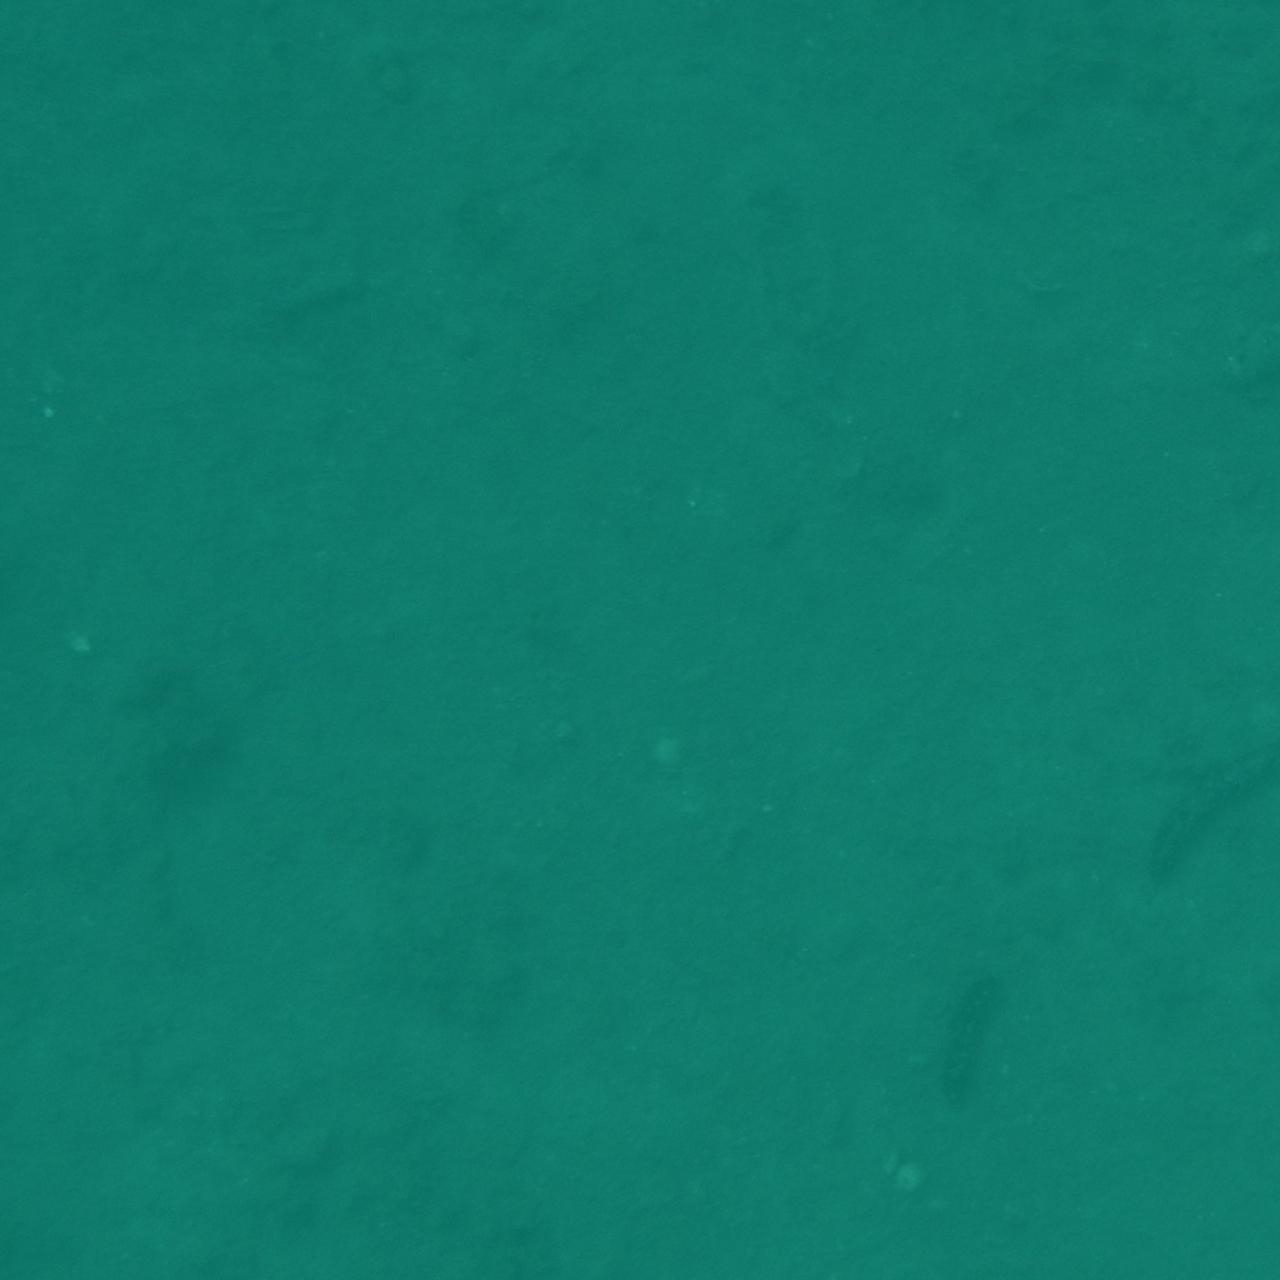Holothuria tubulosa: (1138, 706, 1280, 904), (309, 1164, 522, 1280), (907, 964, 1039, 1118), (1157, 0, 1280, 152), (670, 1164, 831, 1280), (237, 241, 388, 363), (1143, 477, 1280, 605), (0, 425, 116, 568), (295, 1203, 508, 1280), (388, 0, 566, 91), (42, 1219, 287, 1280), (0, 154, 61, 395), (846, 0, 1006, 88), (1212, 11, 1280, 215), (1160, 274, 1280, 374), (0, 0, 149, 80), (0, 701, 109, 789), (1177, 999, 1280, 1089), (1182, 0, 1280, 91), (0, 0, 105, 69), (0, 0, 98, 72), (0, 1177, 68, 1280)
Rifiuto: (0, 1179, 149, 1280)
